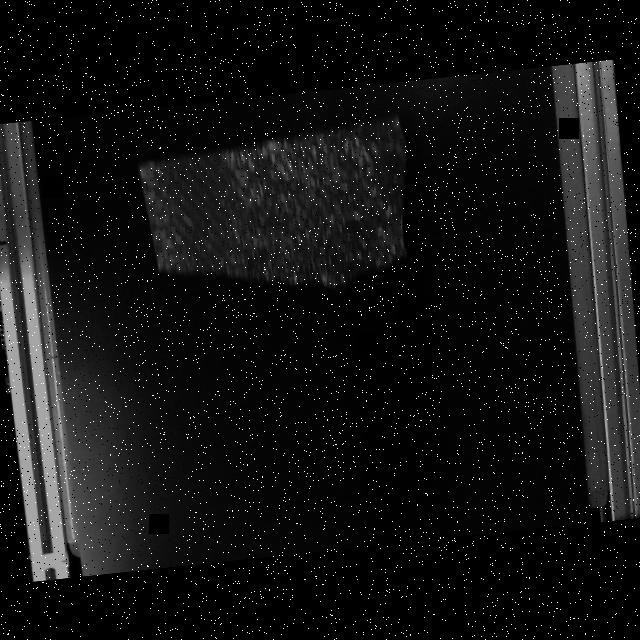scrap_plastic: (128, 110, 420, 308)
